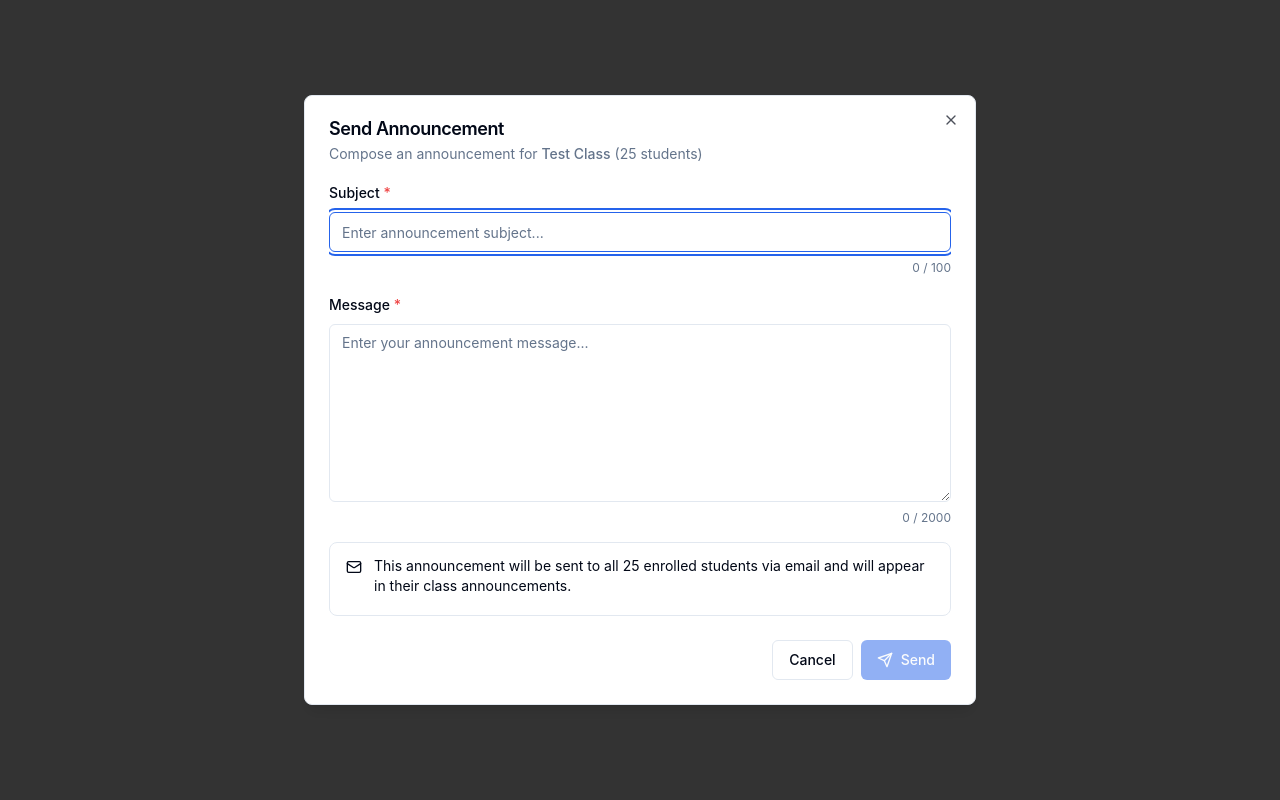
Test case: SendAnnouncementDialog › validates required fields
expect the button "Send" is disabled: met, box [861, 640, 951, 680]
// Fill in subject field
In the field labelled "Subject *": x=640, y=232 [329, 212, 951, 252], type "Test Subject"
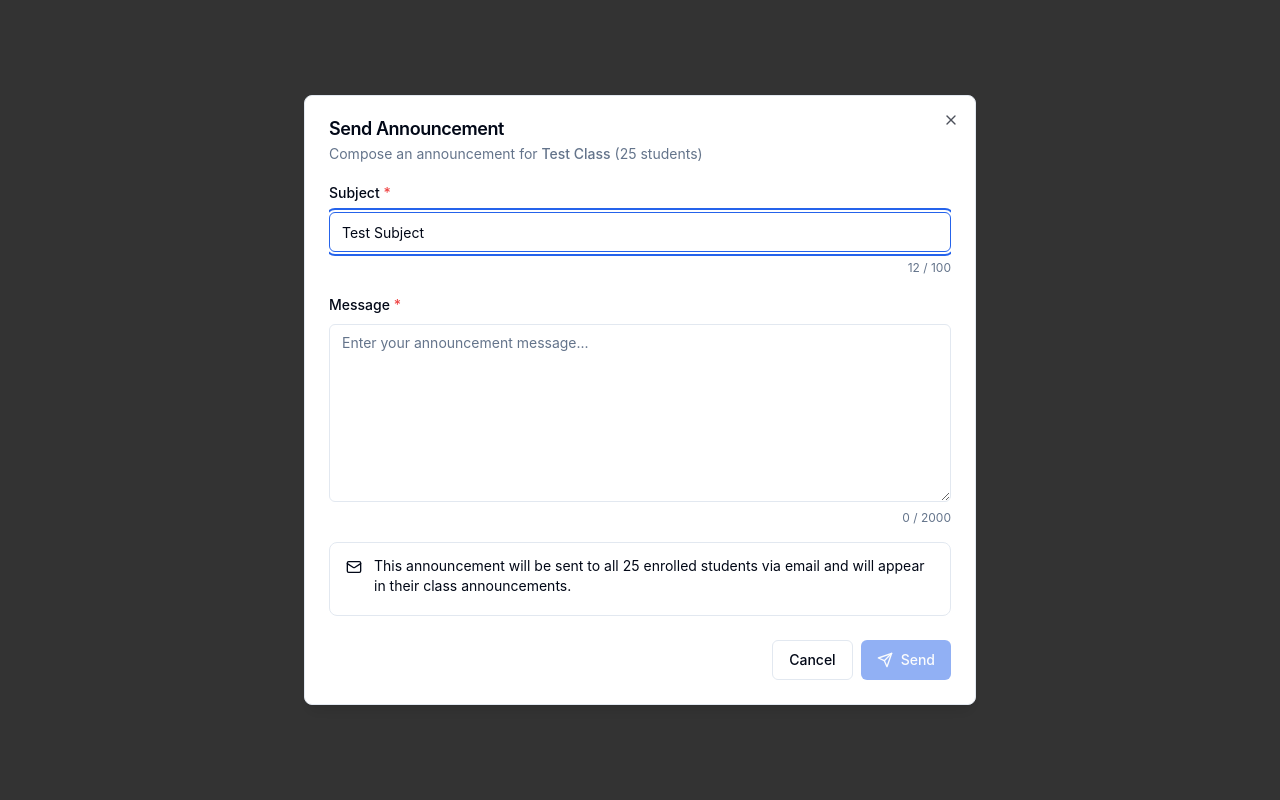
expect the button "Send" is disabled: met, box [861, 640, 951, 680]
// Fill in message field
In the text box labelled "Message *": x=640, y=413 [329, 324, 951, 502], type "Test Message"
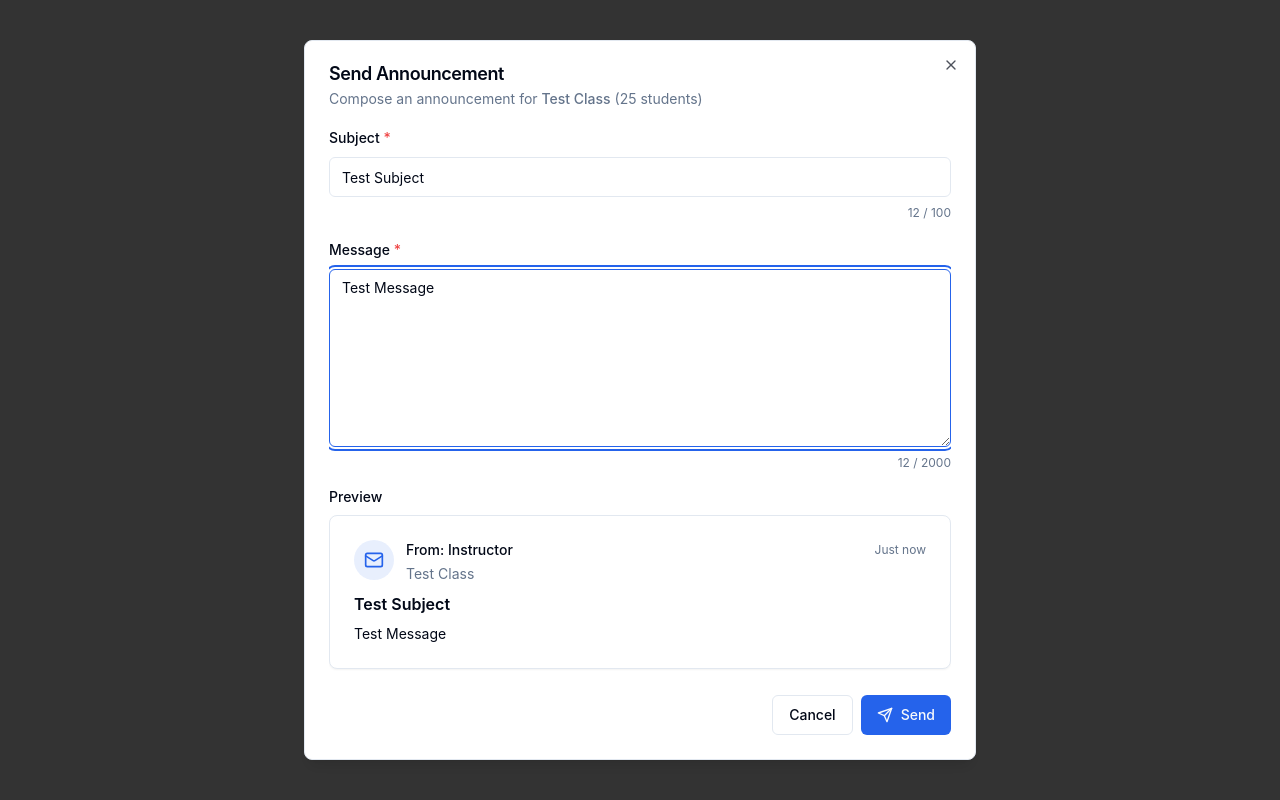
expect the button "Send" is enabled: met, box [861, 695, 951, 735]
